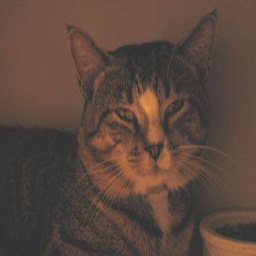cat: (3, 12, 212, 256)
